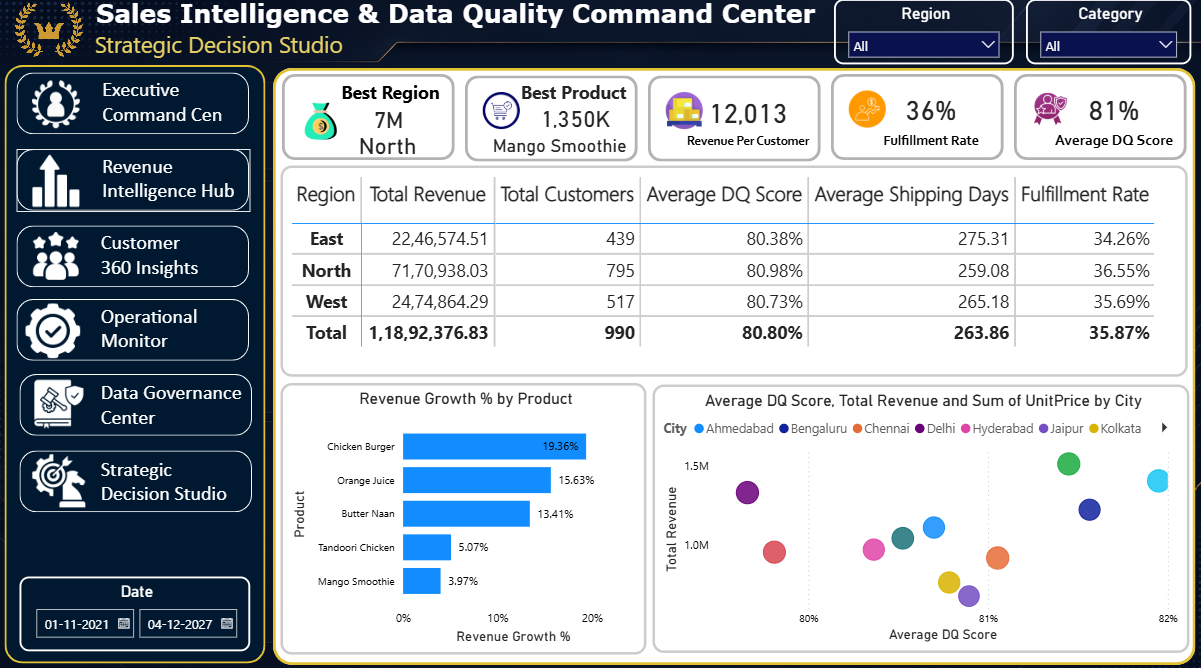

The page's visual inventory and layout, read from the dashboard file:
{"tool":"powerbi","page":{"name":"Strategic Decision Studio","canvas":[1280,720],"ordinal":5},"visuals":[{"type":"group","id":"g1","title":"Base","box":[0,0,1280.7,711],"z":0},{"type":"textbox","box":[0,0,1280.7,80.9],"z":0,"group":"g15"},{"type":"shape","box":[8,76.3,276.8,634.7],"z":0,"group":"g1"},{"type":"shape","box":[292.1,79.9,978.2,633.1],"z":0,"group":"g2"},{"type":"textbox","box":[107.5,84.7,161.8,67.4],"z":0,"group":"g11"},{"type":"shape","box":[301.5,86.3,183.1,91.2],"z":0,"group":"g16"},{"type":"shape","box":[883.6,86.7,183.1,91.2],"z":0,"group":"g12"},{"type":"shape","box":[1077.3,86.7,183.1,91.2],"z":0,"group":"g9"},{"type":"shape","box":[689.6,87.5,183.1,91.2],"z":0,"group":"g13"},{"type":"shape","box":[496.3,88.3,183.1,91.2],"z":0,"group":"g14"},{"type":"textbox","box":[107.5,165.3,161.8,67.4],"z":0,"group":"g10"},{"type":"textbox","box":[105.5,246.2,148.3,65.5],"z":0,"group":"g8"},{"type":"textbox","box":[105.5,325.5,161.8,65.5],"z":0,"group":"g7"},{"type":"textbox","box":[105.3,405,167.5,65.5],"z":0,"group":"g6"},{"type":"textbox","box":[105.5,486.3,161.8,63.6],"z":0,"group":"g5"},{"type":"image","box":[15.4,9.6,77,59.7],"z":1000,"group":"g15"},{"type":"group","id":"g2","title":"Center","box":[292.1,79.9,978.2,633.1],"z":1000},{"type":"shape","box":[21.3,85.1,246.5,65.5],"z":1000,"group":"g11"},{"type":"group","id":"g3","title":"Group 1","box":[301.5,86.3,957.5,93.8],"z":1000,"group":"g2"},{"type":"card","fields":{"Values":["Measure.Fulfillment Rate"]},"box":[912.4,86.7,154.3,91.2],"z":1000,"group":"g12"},{"type":"card","fields":{"Values":["Measure.Average DQ Score"]},"box":[1106.1,86.7,154.3,91.2],"z":1000,"group":"g9"},{"type":"card","fields":{"Values":["Measure.Revenue Per Customer"]},"box":[718.4,87.5,154.3,91.2],"z":1000,"group":"g13"},{"type":"card","title":"Card-b","fields":{"Values":["Measure.Best Product Revenue"]},"box":[547.5,118.8,132.1,30.5],"z":1000,"group":"g14"},{"type":"card","title":"Card-b","fields":{"Values":["Measure.Best Region"]},"box":[340.8,145.9,143.9,32.4],"z":1000,"group":"g16"},{"type":"shape","box":[21.3,165.7,246.5,65.5],"z":1000,"group":"g10"},{"type":"shape","box":[21.3,245.9,246.5,65.5],"z":1000,"group":"g8"},{"type":"shape","box":[21.3,324.9,246.5,65.5],"z":1000,"group":"g7"},{"type":"shape","box":[23.6,404.1,246.5,65.5],"z":1000,"group":"g6"},{"type":"shape","box":[23.6,484.4,246.5,65.5],"z":1000,"group":"g5"},{"type":"slicer","title":"Date","fields":{"Values":["Dim_Date.Date"]},"box":[23.4,618.7,245,79.5],"z":1000,"group":"g1"},{"type":"group","id":"g4","title":"Group 2","box":[300.4,414,963.9,287.9],"z":1001,"group":"g2"},{"type":"image","box":[34.8,89,57.8,57.8],"z":2000,"group":"g11"},{"type":"image","box":[900.6,104.8,41.7,39.5],"z":2000,"group":"g12"},{"type":"image","box":[1094.3,104.8,41.7,39.5],"z":2000,"group":"g9"},{"type":"image","box":[706.6,105.6,41.7,39.5],"z":2000,"group":"g13"},{"type":"card","title":"Card-a","fields":{"Values":["Measure.Best Region Revenue"]},"box":[340.8,115.4,145.9,38.1],"z":2000,"group":"g16"},{"type":"card","title":"Card-a","fields":{"Values":["Measure.Best Product"]},"box":[513.3,143.9,165.6,36.2],"z":2000,"group":"g14"},{"type":"image","box":[34.8,169.6,57.8,57.8],"z":2000,"group":"g10"},{"type":"image","box":[34.8,249.8,57.8,57.8],"z":2000,"group":"g8"},{"type":"image","box":[30.4,329.3,57.8,57.8],"z":2000,"group":"g7"},{"type":"image","box":[37.1,408,57.8,57.8],"z":2000,"group":"g6"},{"type":"scatterChart","fields":{"X":["Measure.Average DQ Score"],"Y":["Measure.Total Revenue"],"Series":["Dim_Location.City"],"Size":["Sum(Fact_Sales.UnitPrice)"]},"box":[694.9,415.6,569.4,284.7],"z":2000,"group":"g4"},{"type":"group","id":"g5","title":"Button-6","box":[23.6,484.4,246.5,65.5],"z":2000,"group":"g1"},{"type":"image","box":[37.1,488.3,57.8,57.8],"z":2000,"group":"g5"},{"type":"textbox","box":[541.9,88.9,138,38.1],"z":2500,"group":"g14"},{"type":"textbox","box":[344.9,87.7,143.9,38.1],"z":3000,"group":"g16"},{"type":"image","box":[513.3,106.4,41.7,39.5],"z":3000,"group":"g14"},{"type":"group","id":"g6","title":"Button-5","box":[23.6,404.1,249.3,66.4],"z":3000,"group":"g1"},{"type":"clusteredBarChart","fields":{"Category":["Dim_Product.Product"],"Y":["Measure.Revenue Growth %"]},"box":[300.4,414,387.8,287.9],"z":3000,"group":"g4"},{"type":"image","box":[319.1,113.5,47.3,45.7],"z":4000,"group":"g16"},{"type":"pivotTable","fields":{"Rows":["Dim_Location.Region"],"Values":["Measure.Total Revenue","Measure.Total Customers","Measure.Average DQ Score","Measure.Average Shipping Days","Measure.Fulfillment Rate"]},"box":[300.1,183.3,962.3,224.3],"z":4000,"group":"g2"},{"type":"group","id":"g7","title":"Button-4","box":[21.3,324.9,246.5,66.1],"z":4000,"group":"g1"},{"type":"group","id":"g8","title":"Button-3","box":[21.3,245.9,246.5,65.8],"z":5000,"group":"g1"},{"type":"group","id":"g9","title":"Card-5","box":[1077.3,86.7,181.8,91.1],"z":6000,"group":"g3"},{"type":"group","id":"g10","title":"Button-2","box":[21.3,165.3,247.9,67.4],"z":6000,"group":"g1"},{"type":"group","id":"g11","title":"Button-1","box":[21.3,84.7,248.4,67.4],"z":7000,"group":"g1"},{"type":"group","id":"g12","title":"Card-4","box":[883.6,86.7,183.1,91.2],"z":7000,"group":"g3"},{"type":"slicer","title":"Category","fields":{"Values":["Dim_Product.Category"]},"box":[1091.9,5.8,175.2,69.3],"z":8000,"group":"g1"},{"type":"group","id":"g13","title":"Card-3","box":[689.6,87.5,181.8,91.1],"z":8000,"group":"g3"},{"type":"slicer","title":"Region","fields":{"Values":["Dim_Location.Region"]},"box":[887.8,5.8,190.7,69.3],"z":9000,"group":"g1"},{"type":"group","id":"g14","title":"Card-2","box":[496.3,88.3,183.6,91.8],"z":9000,"group":"g3"},{"type":"group","id":"g15","title":"Header","box":[0,0,1280.7,80.9],"z":10000,"group":"g1"},{"type":"group","id":"g16","title":"Card-1","box":[301.5,86.3,187.2,92],"z":10000,"group":"g3"}]}

Visuals, with their boxes in screenshot pixels (x1, y1, x2, y2), scaled from the page's 1280x720 canvas onto the 1201x668 screenshot:
"Base" group: 0/0/1200/660
textbox: 0/0/1200/75
shape: 8/71/267/660
shape: 274/74/1192/662
textbox: 101/79/253/141
shape: 283/80/455/165
shape: 829/80/1001/165
shape: 1011/80/1183/165
shape: 647/81/819/166
shape: 466/82/637/167
textbox: 101/153/253/216
textbox: 99/228/238/289
textbox: 99/302/251/363
textbox: 99/376/256/437
textbox: 99/451/251/510
image: 14/9/87/64
"Center" group: 274/74/1192/662
shape: 20/79/251/140
"Group 1" group: 283/80/1181/167
card - Measure.Fulfillment Rate: 856/80/1001/165
card - Measure.Average DQ Score: 1038/80/1183/165
card - Measure.Revenue Per Customer: 674/81/819/166
"Card-b" card: 514/110/638/139
"Card-b" card: 320/135/455/165
shape: 20/154/251/215
shape: 20/228/251/289
shape: 20/301/251/362
shape: 22/375/253/436
shape: 22/449/253/510
"Date" slicer: 22/574/252/648
"Group 2" group: 282/384/1186/651
image: 33/83/87/136
image: 845/97/884/134
image: 1027/97/1066/134
image: 663/98/702/135
"Card-a" card: 320/107/457/142
"Card-a" card: 482/134/637/167
image: 33/157/87/211
image: 33/232/87/285
image: 29/306/83/359
image: 35/379/89/432
scatterChart - Measure.Average DQ Score x Measure.Total Revenue: 652/386/1186/650
"Button-6" group: 22/449/253/510
image: 35/453/89/507
textbox: 508/82/638/118
textbox: 324/81/459/117
image: 482/99/521/135
"Button-5" group: 22/375/256/437
clusteredBarChart - Dim_Product.Product x Measure.Revenue Growth %: 282/384/646/651
image: 299/105/344/148
pivotTable - Dim_Location.Region x Measure.Total Revenue: 282/170/1184/378
"Button-4" group: 20/301/251/363
"Button-3" group: 20/228/251/289
"Card-5" group: 1011/80/1181/165
"Button-2" group: 20/153/253/216
"Button-1" group: 20/79/253/141
"Card-4" group: 829/80/1001/165
"Category" slicer: 1025/5/1189/70
"Card-3" group: 647/81/818/166
"Region" slicer: 833/5/1012/70
"Card-2" group: 466/82/638/167
"Header" group: 0/0/1200/75
"Card-1" group: 283/80/459/165
